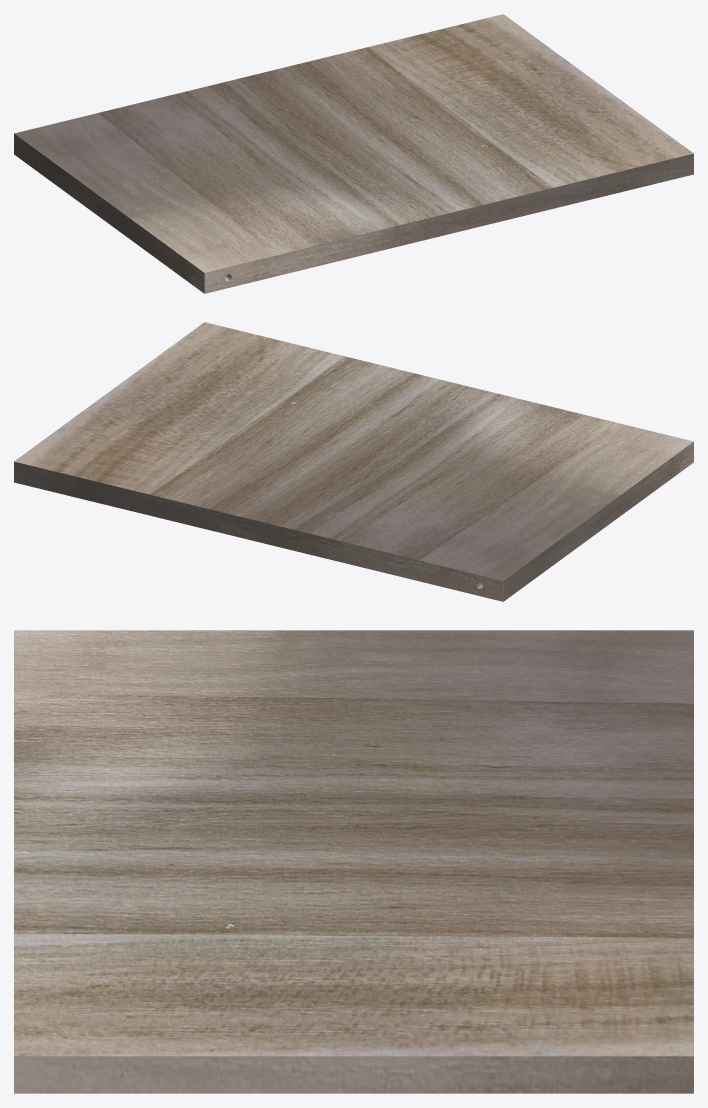
The model's file is Link3-texture.obj.
3 renders of one model, top to bottom at view 1: azimuth 30°, elevation 25°; view 2: azimuth 150°, elevation 25°; view 3: azimuth 270°, elevation 25°, orthographic. The views are drawn at different scales.
Parts seen in each view (by area): view 1: Link3.002; view 2: Link3.002; view 3: Link3.002.
Boxes of the visible parts, <box> form: Link3.002: <box>14,14,693,293</box>; Link3.002: <box>14,322,693,601</box>; Link3.002: <box>14,630,693,1093</box>.
Size of the model in its own units: 0.367 by 0.015 by 0.2475.
Materials: 1 (1 with a texture image).
